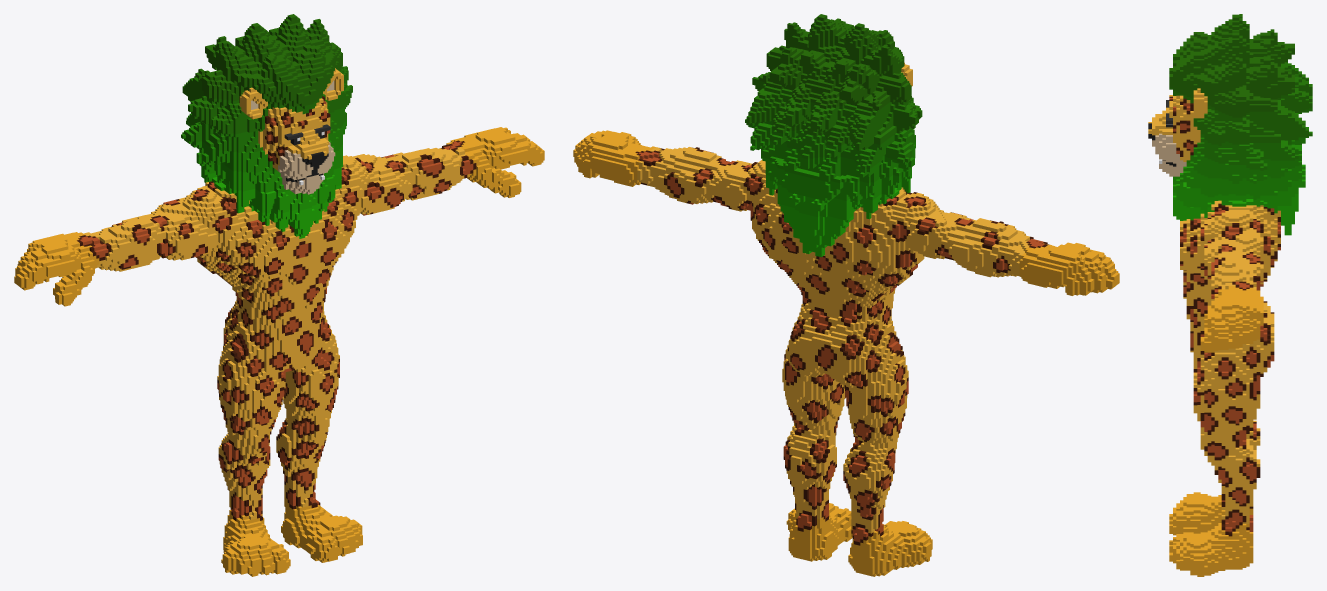
Rendered from 135-DtAHRL-A.fbx.
The picture shows the model from 3 angles, left to right: view 1: azimuth 30°, elevation 25°; view 2: azimuth 150°, elevation 25°; view 3: azimuth 270°, elevation 25°; orthographic projection. The views are drawn at different scales.
Parts seen in each view (by area): view 1: standard; view 2: standard; view 3: standard.
Boxes of the visible parts, x1,y1,x2,y2 form: standard: (14,14,544,576); standard: (573,14,1119,576); standard: (1148,14,1312,576).
Bounding box in the file's own units: 17.2 × 16.5 × 4.7.
4 materials, 4 textured.
